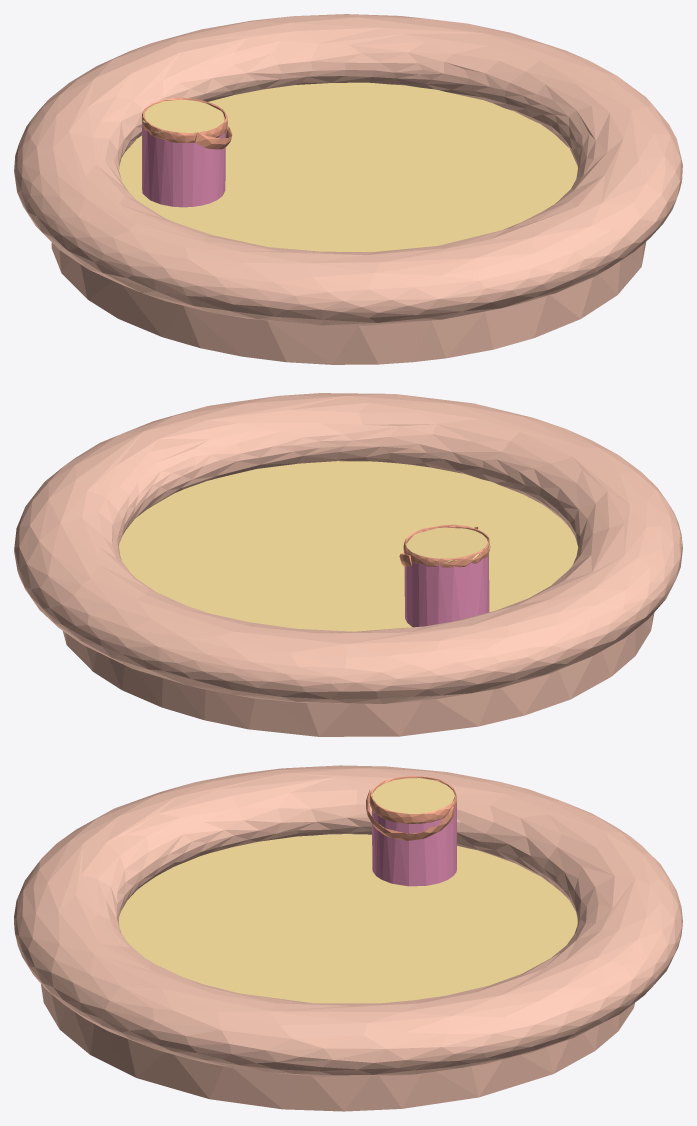
File: sandbeach_.glb
3 renders of one model, top to bottom at view 1: azimuth 30°, elevation 25°; view 2: azimuth 150°, elevation 25°; view 3: azimuth 270°, elevation 25°, orthographic.
Parts seen in each view (by area): view 1: Torus 2; view 2: Torus 2; view 3: Torus 2.
Part boxes in pixels (x1,y1,x2,y2): Torus 2: (14, 14, 682, 364); Torus 2: (14, 393, 682, 736); Torus 2: (14, 765, 682, 1111).
Bounding box in the file's own units: 2.09 × 0.4441 × 2.09.
